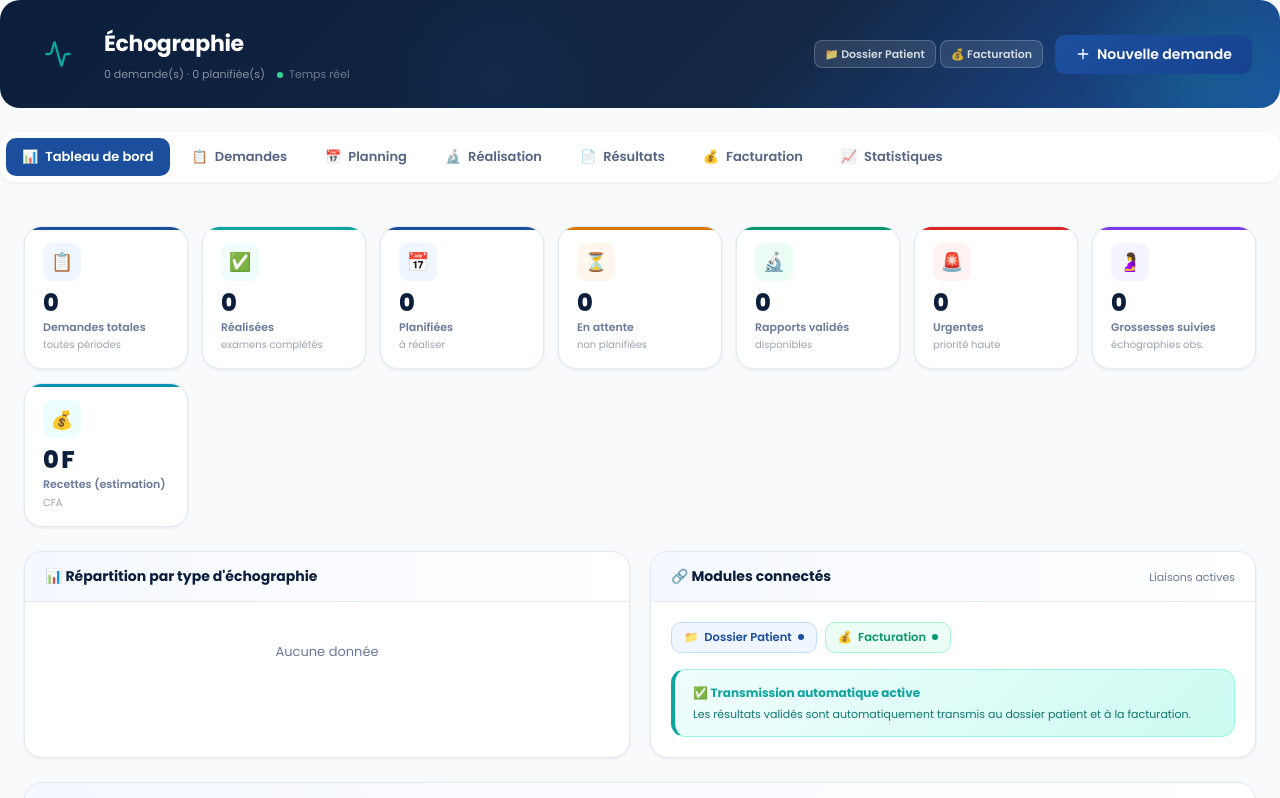
Test: ECHO-04 — un échec réel de chargement est signalé explicitement, jamais confondu avec une liste réellement vide
The image size is (1280, 798).
Click the button "📋 Demandes".
click(239, 157)  # box 176,138 -> 303,176
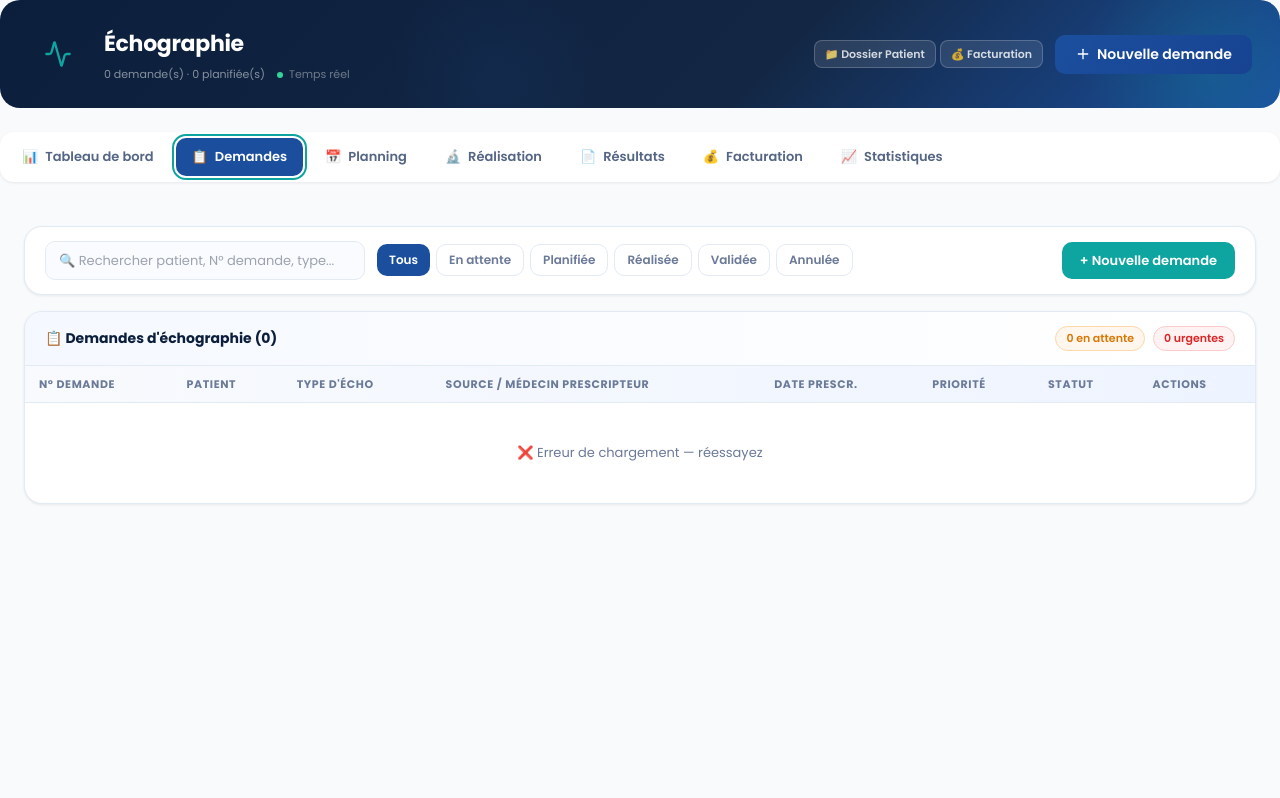
Expected: the text "❌ Erreur de chargement — réessayez" is shown, 25,402 -> 1255,502
